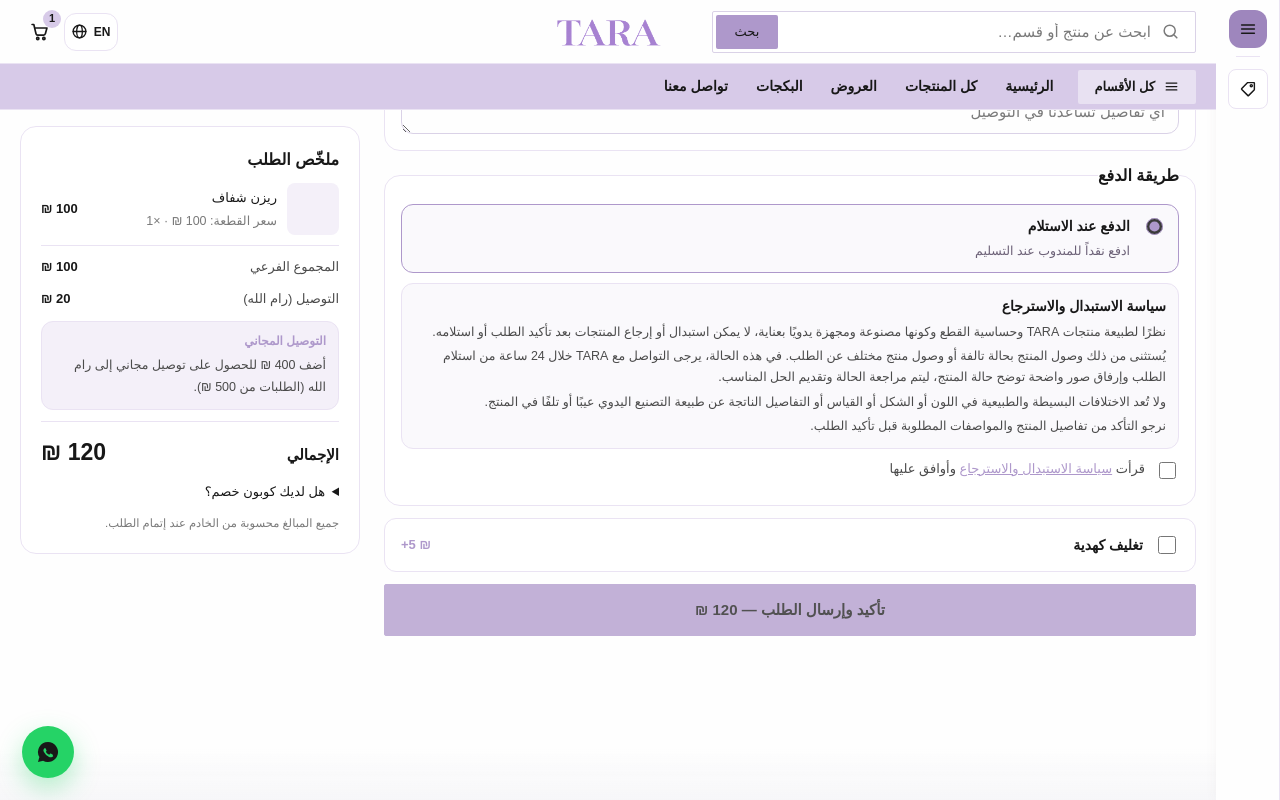
public storefront › blocks checkout until the customer fields are valid
(page scrolled)
Click the checkbox labelled "قرأت سياسة الاستبدال والاسترجاع وأوافق عليها".
click(1168, 470)  # box top-left (1159, 462), bottom-right (1176, 479)
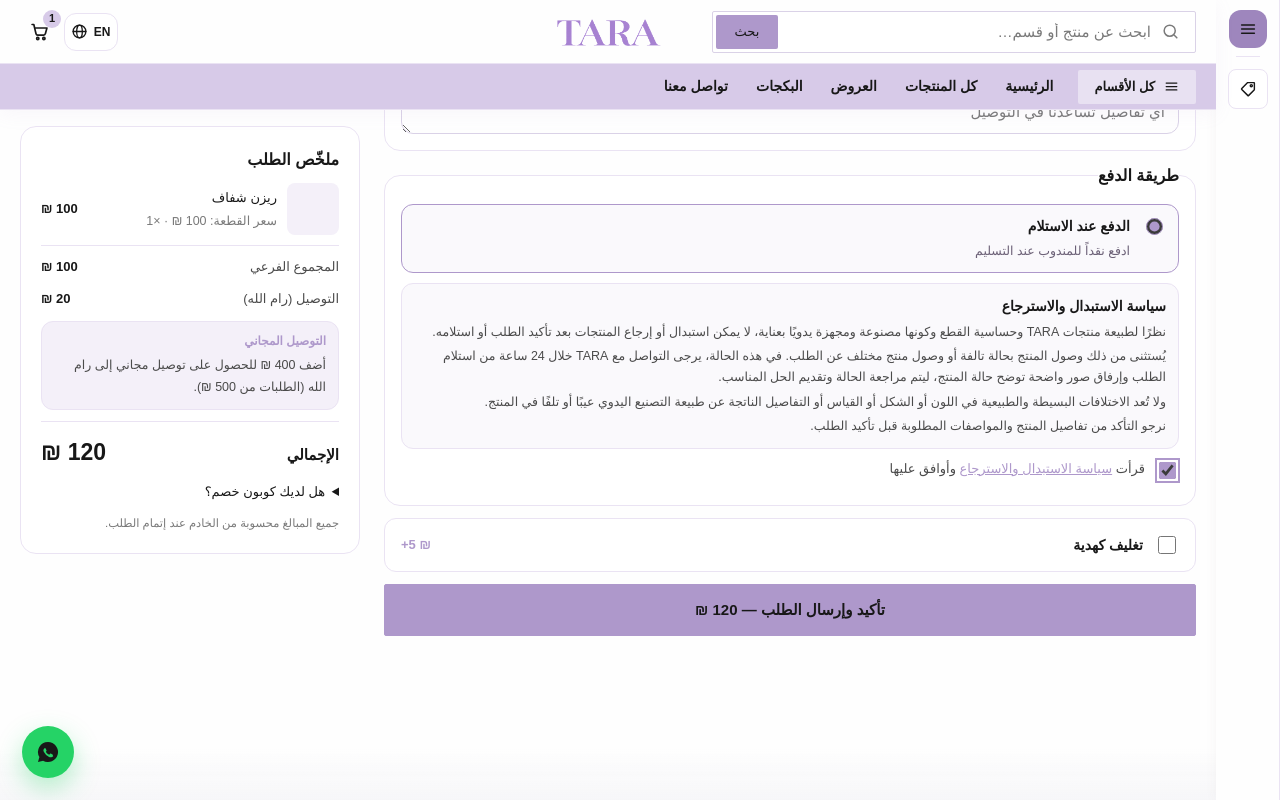
Click the button "تأكيد وإرسال الطلب — 120 ₪".
click(790, 610)  # box top-left (384, 584), bottom-right (1196, 636)
(page scrolled)
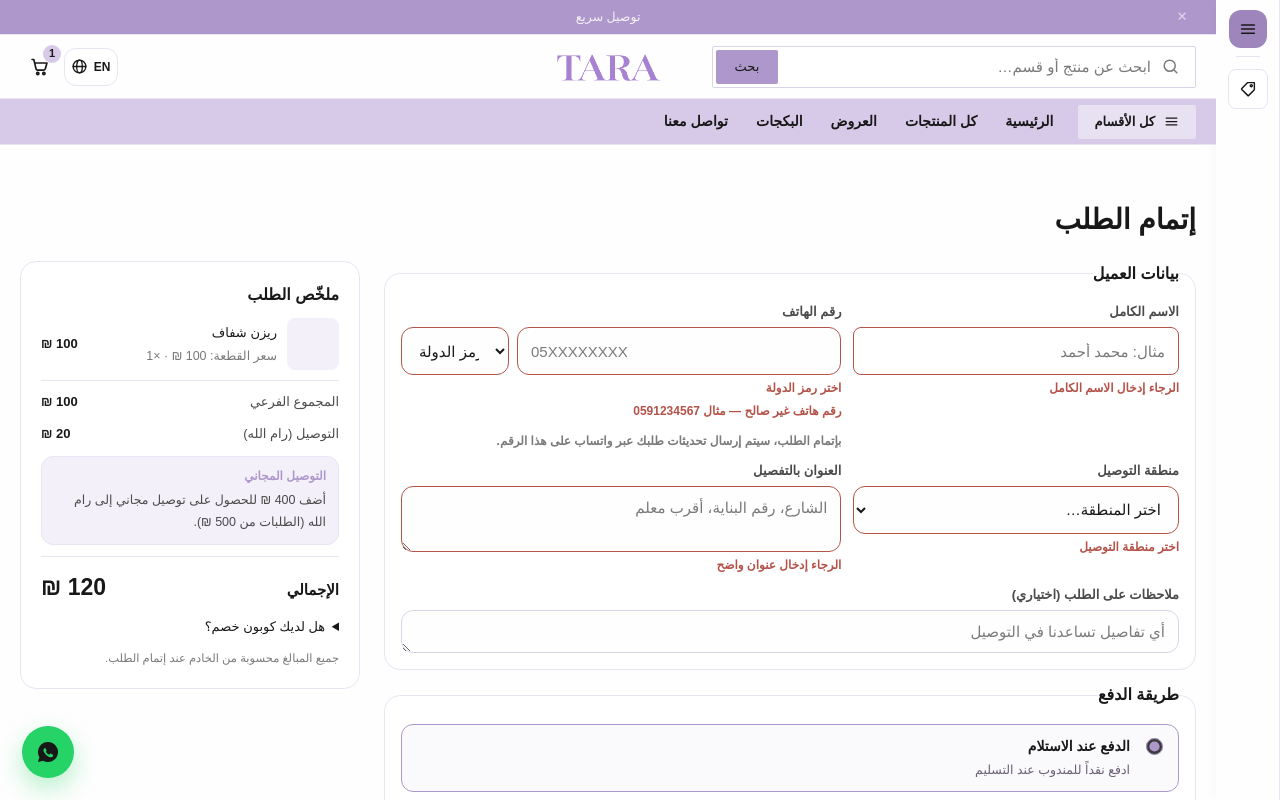
Expected: the text "رقم هاتف غير صالح — مثال 0591234567" is shown, top-left (633, 404), bottom-right (841, 418)
Expected: the text "اختر منطقة التوصيل" is shown, top-left (1079, 540), bottom-right (1179, 554)
